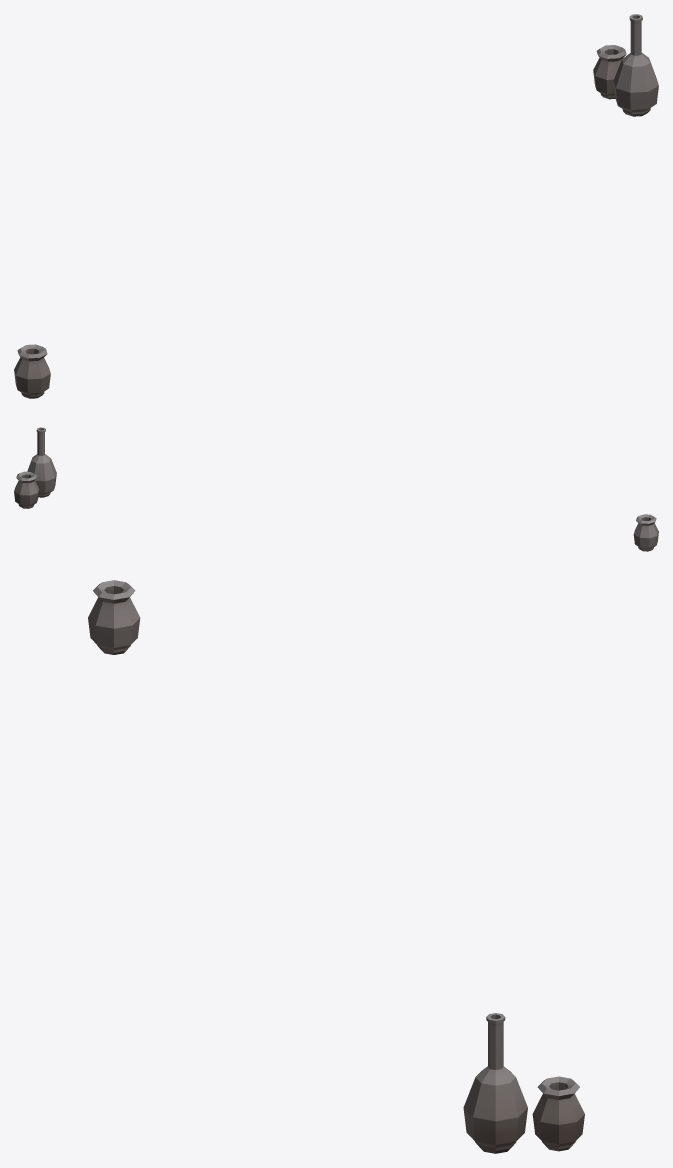
3 renders of one model, top to bottom at view 1: azimuth 30°, elevation 25°; view 2: azimuth 150°, elevation 25°; view 3: azimuth 270°, elevation 25°, orthographic. The views are drawn at different scales.
Visible parts, largest first — view 1: Ob_01; view 2: Ob_01; view 3: Ob_01.
Part boxes in pixels (x1,y1,x2,y2): Ob_01: (14, 14, 658, 398); Ob_01: (14, 427, 658, 551); Ob_01: (88, 580, 584, 1153).
Size of the model in its own units: 16.35 by 1.9 by 6.58.
